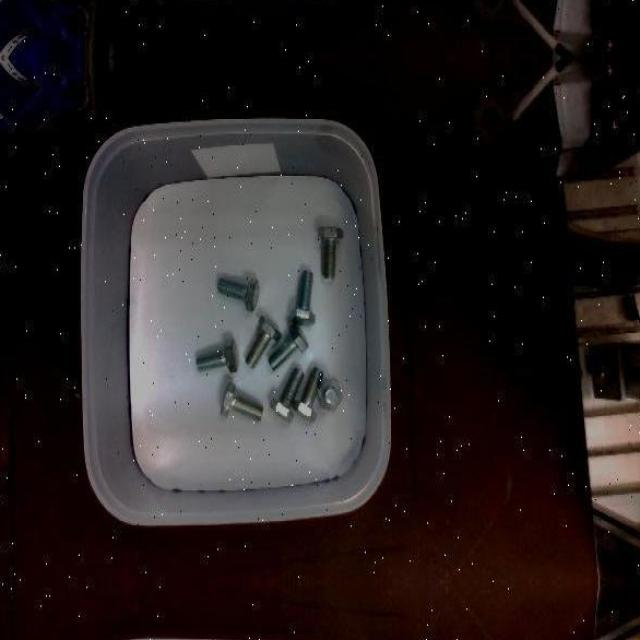screw: (246, 314, 282, 368), (269, 323, 310, 370), (270, 367, 304, 422), (293, 367, 323, 421), (221, 382, 263, 420), (217, 276, 259, 312), (196, 338, 239, 372), (290, 270, 316, 324), (319, 227, 345, 280), (318, 378, 343, 410)
